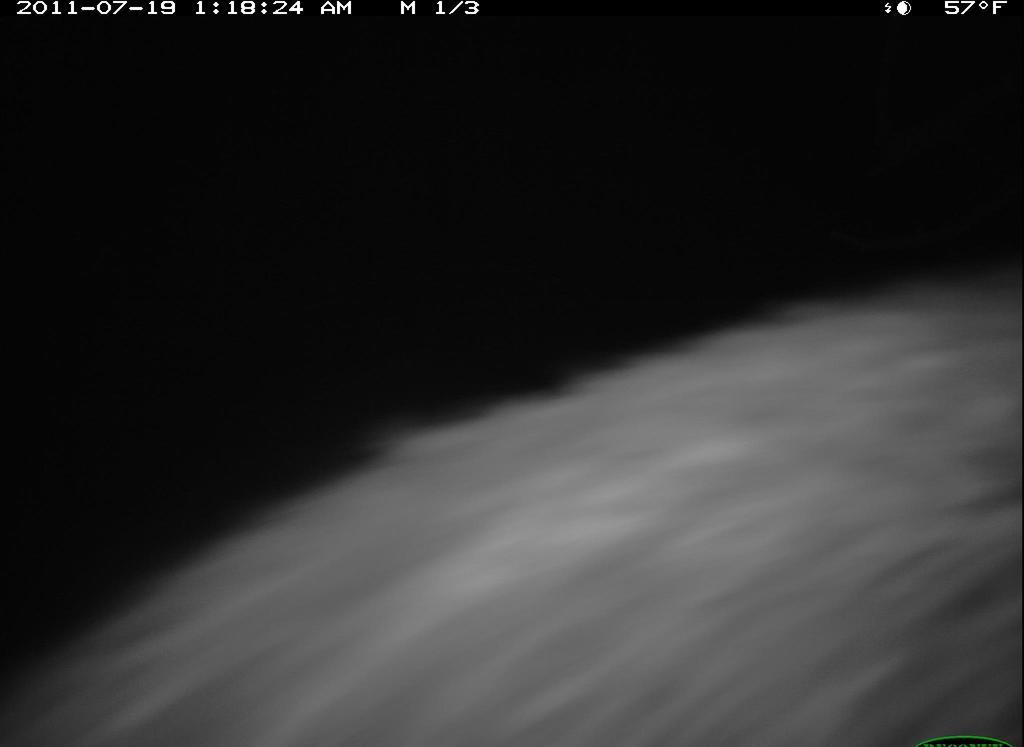raccoon: (6, 282, 1012, 740)
